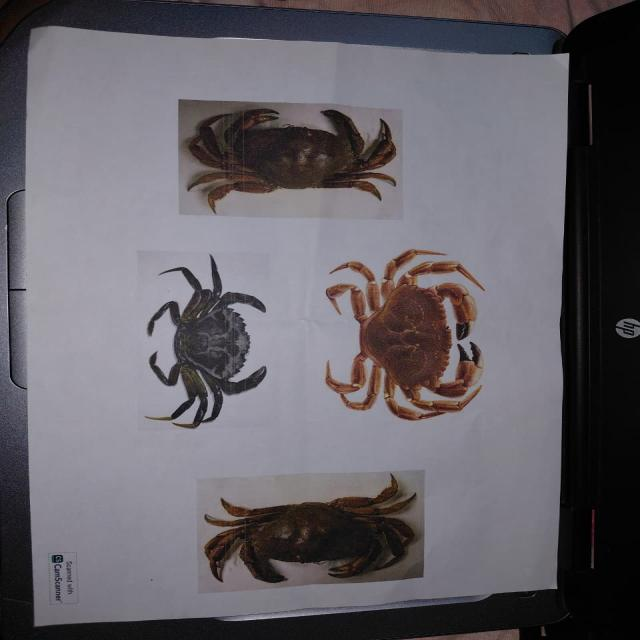egc: (145, 256, 265, 428)
